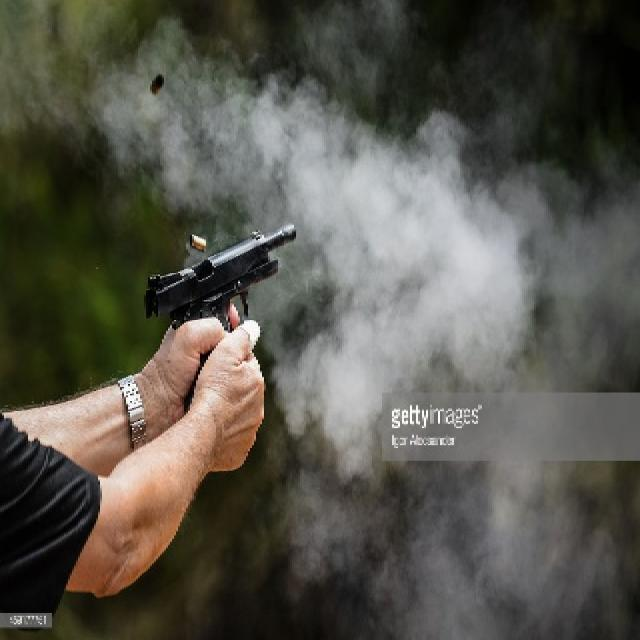handgun: (141, 224, 301, 345)
